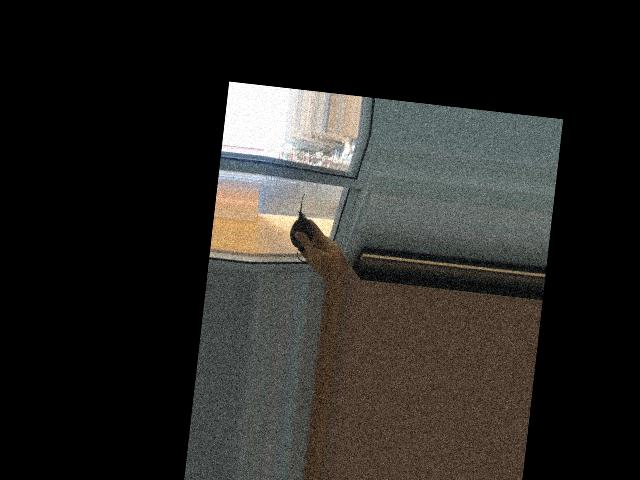beet: (287, 192, 324, 263)
